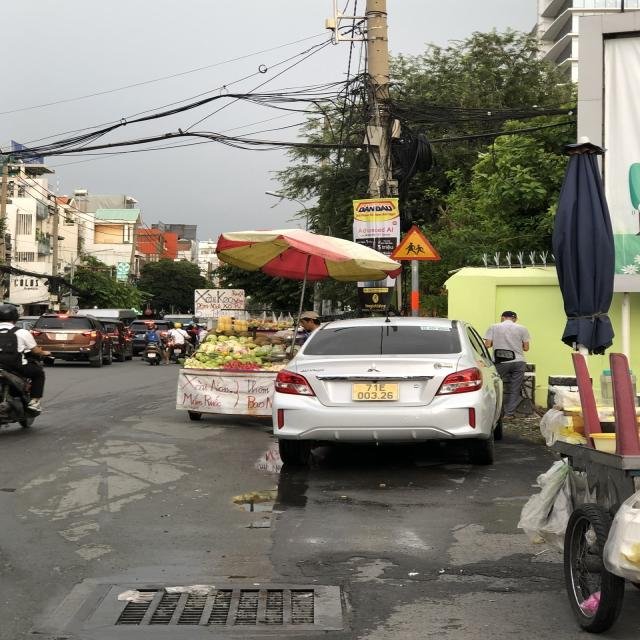Bien bao tre em: (387, 222, 443, 262)
